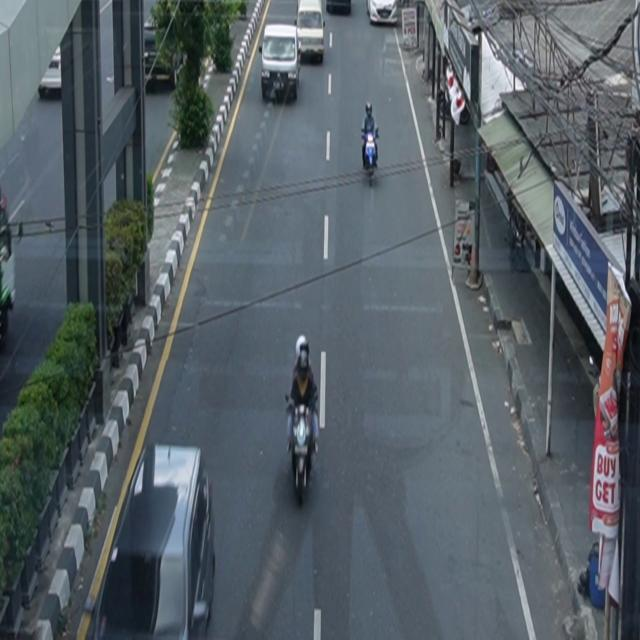car: (79, 443, 217, 640), (261, 24, 302, 104), (296, 1, 326, 64), (39, 47, 63, 98), (367, 1, 398, 26), (327, 1, 352, 15)
